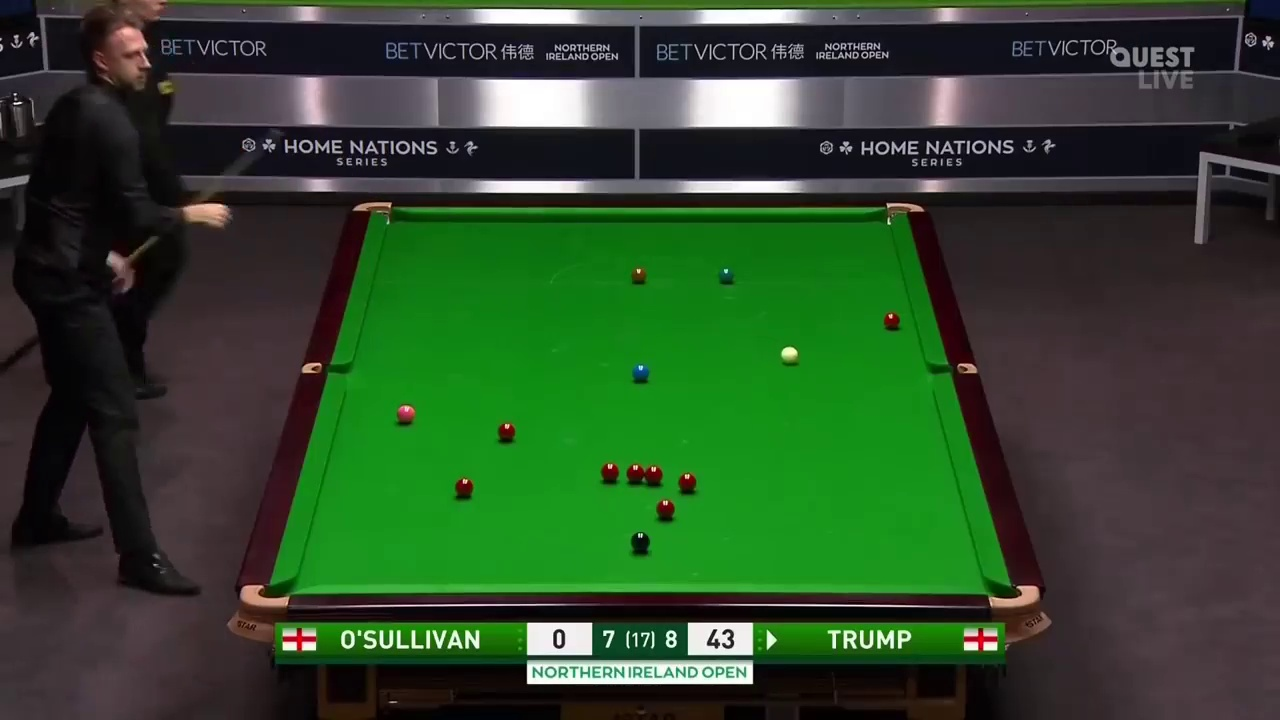ball: (654, 497, 677, 519), (600, 460, 621, 484), (633, 360, 653, 381), (676, 473, 696, 493), (495, 420, 516, 439), (779, 343, 799, 362), (395, 404, 414, 422), (630, 265, 649, 282), (630, 531, 649, 548), (882, 311, 900, 328), (455, 479, 471, 498), (717, 266, 733, 282)
